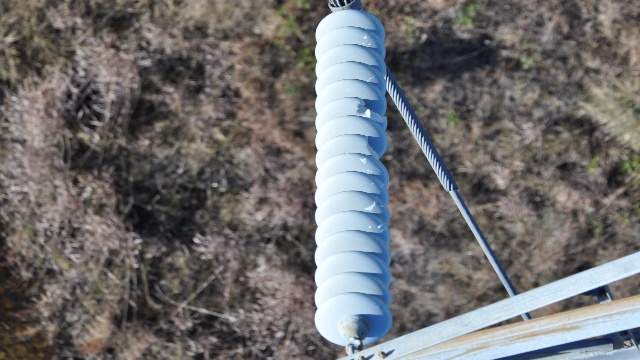broken_local: (355, 96, 387, 122)
insulator_unspecified: (313, 9, 392, 346)
